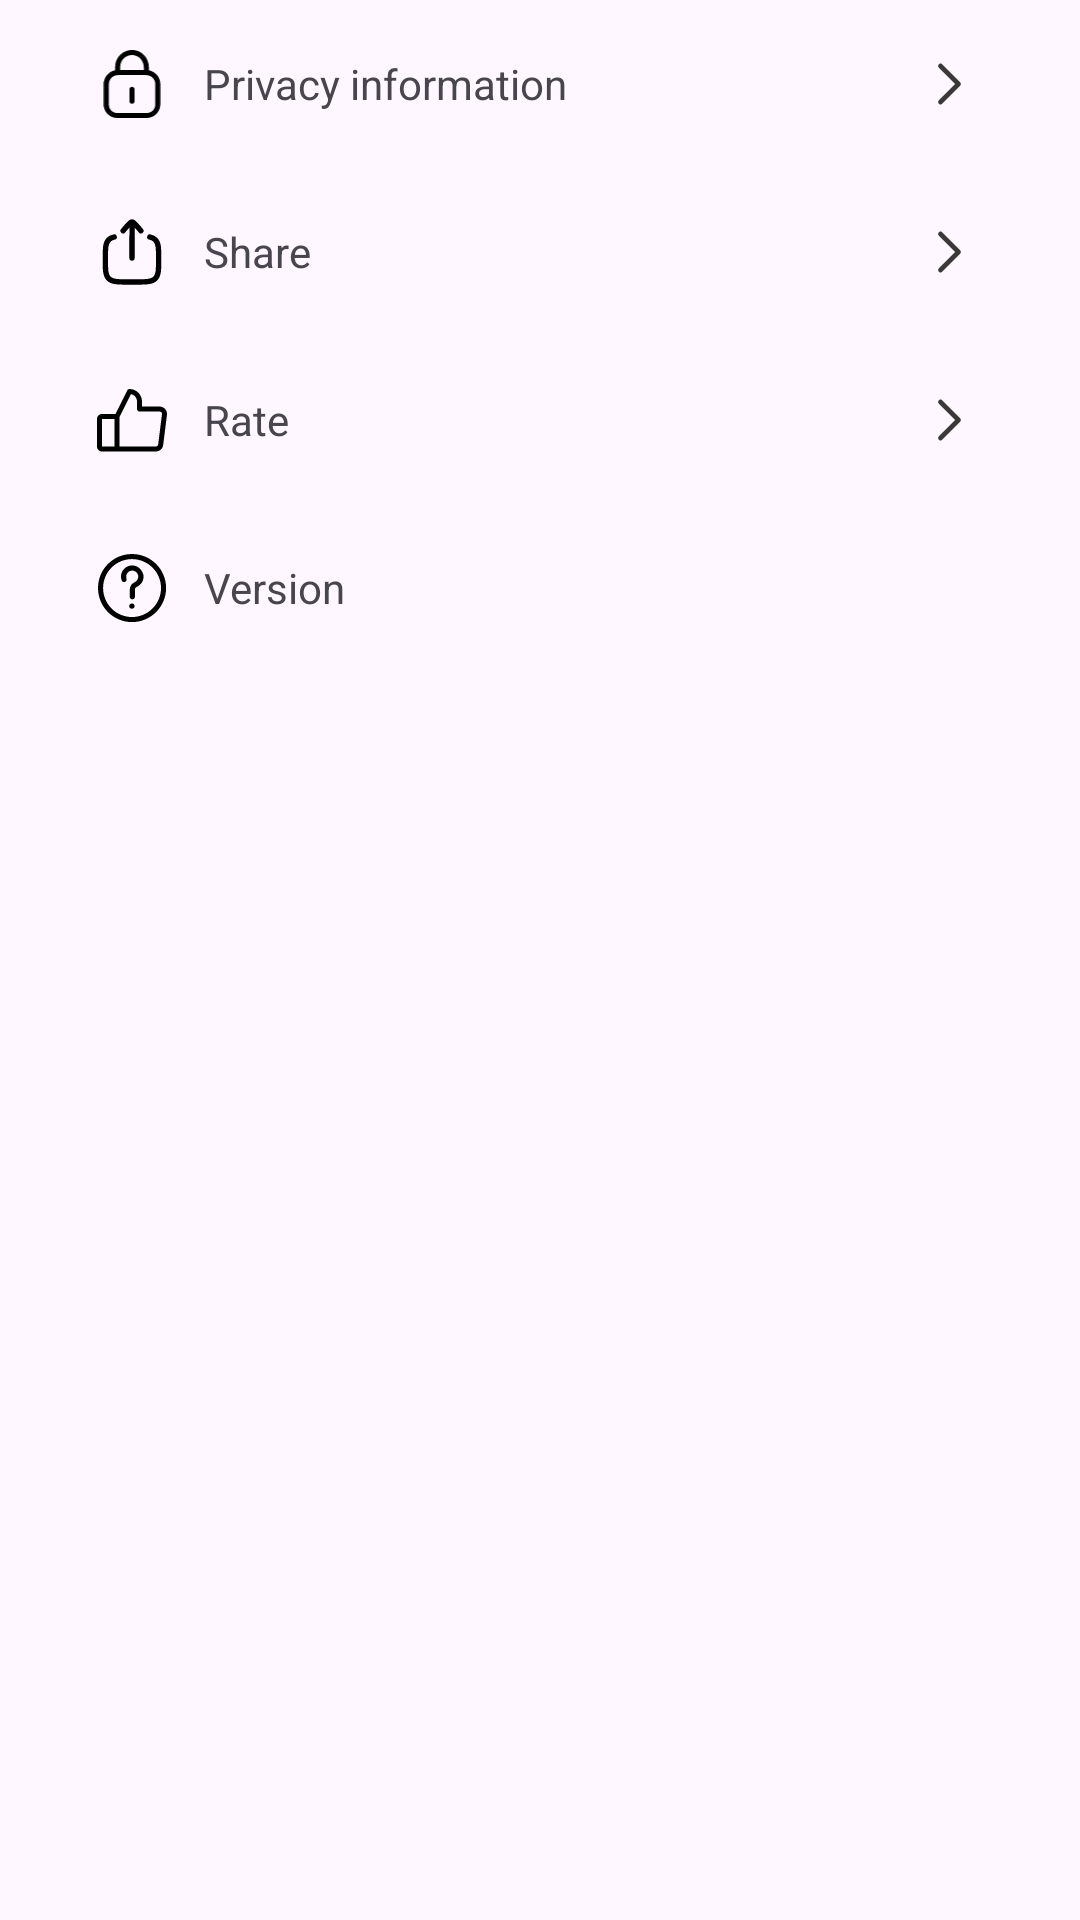

Icons on this 1080 × 1920 Android screen, each with the point to tap as (x=x, y=y):
lock: (x=132, y=84)
question: (x=132, y=588)
